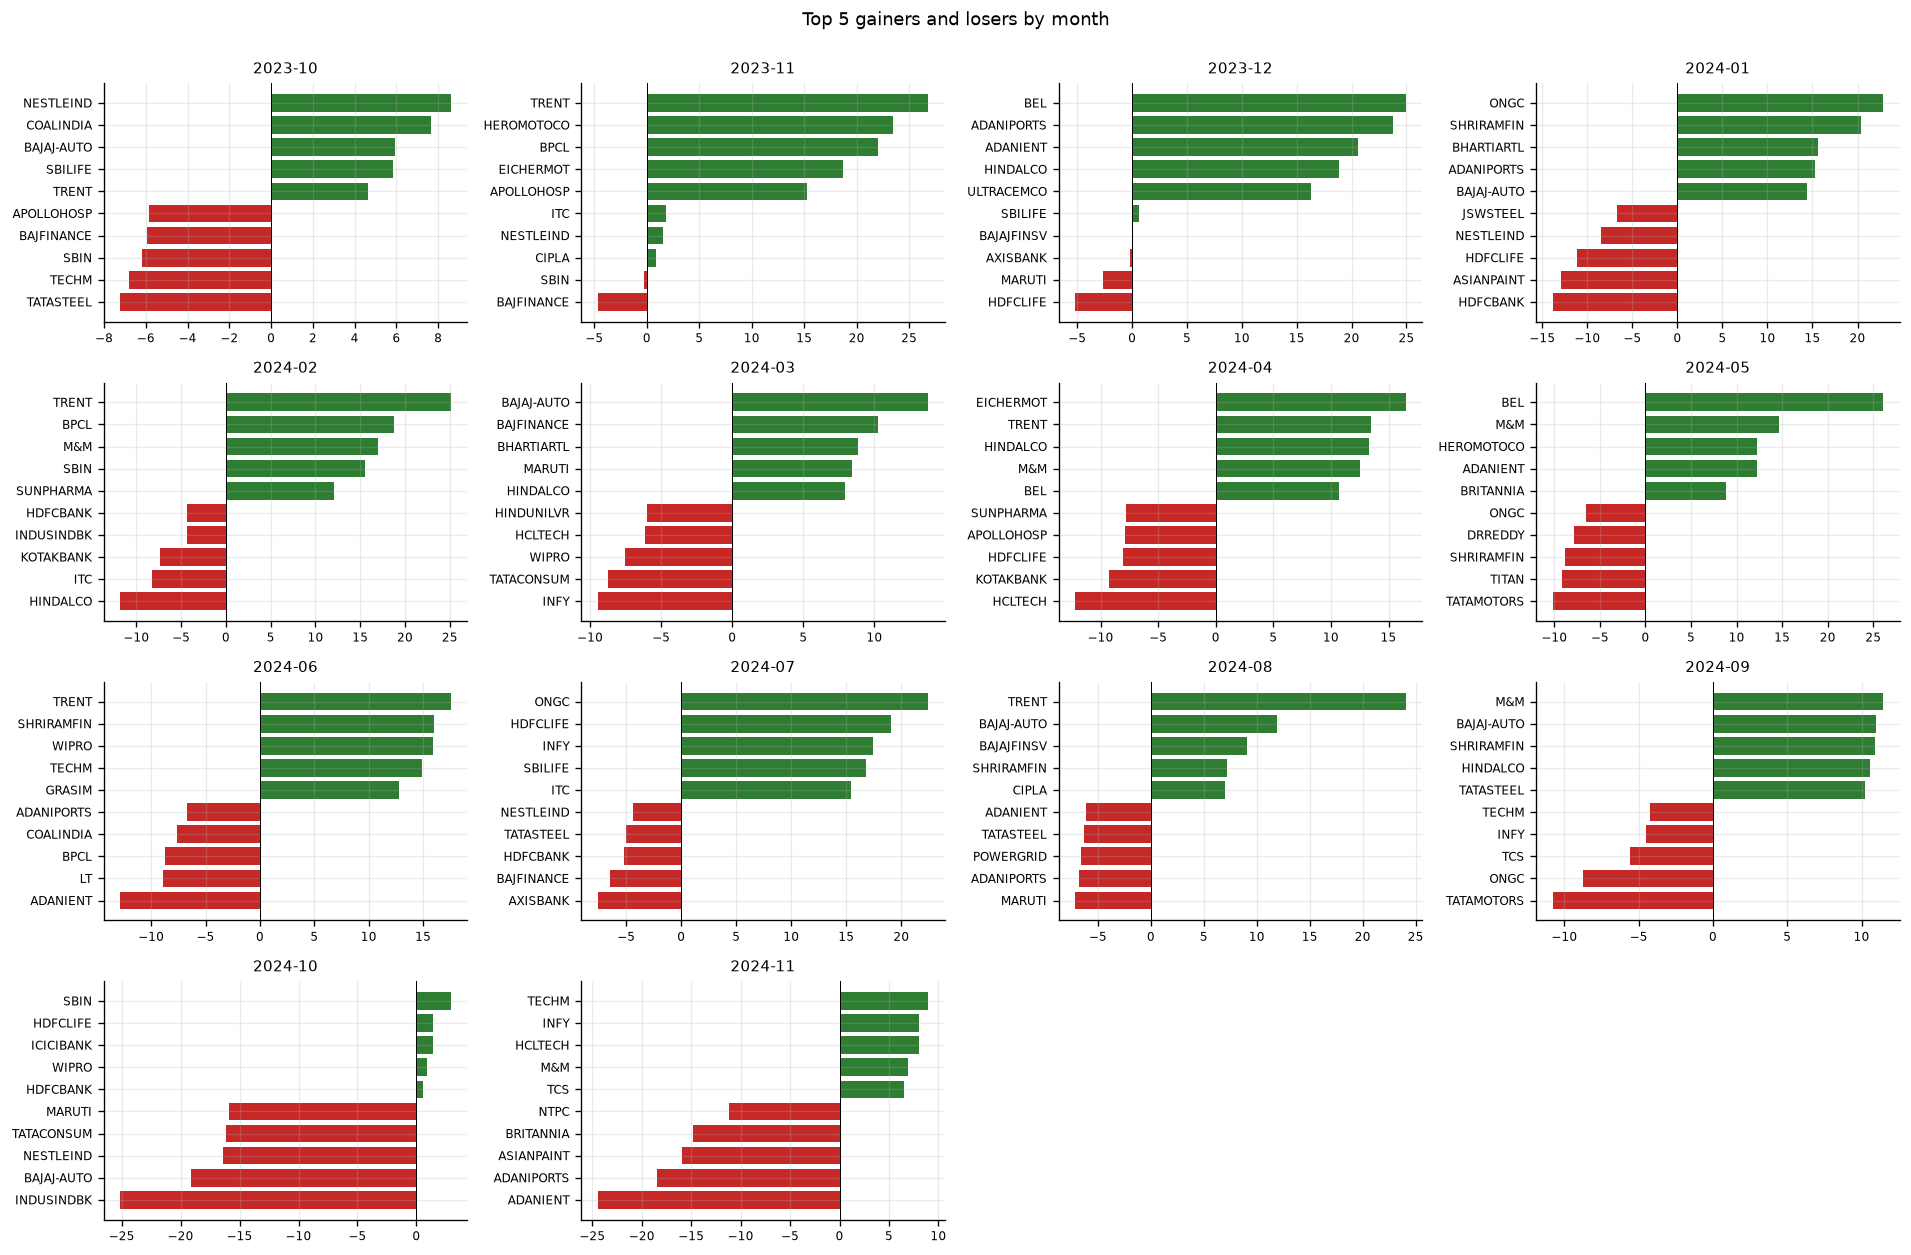

Layout of this report page (visuals, bound fields, positions):
{"tool":"powerbi","page":{"name":"Monthly Gainers & Losers","canvas":[1280,720],"ordinal":3},"visuals":[{"type":"slicer","fields":{"Values":["agg_monthly_returns.month"]},"box":[16,16,1248,100],"z":0},{"type":"clusteredBarChart","fields":{"Category":["agg_monthly_returns.symbol"],"Y":["Sum(agg_monthly_returns.monthly_return_pct)"]},"box":[16,132,612,514],"z":1000},{"type":"clusteredBarChart","fields":{"Category":["agg_monthly_returns.symbol"],"Y":["Sum(agg_monthly_returns.monthly_return_pct)"]},"box":[652,132,612,514],"z":2000}]}

Visuals, with their boxes on the page's 1280x720 design canvas (x1, y1, x2, y2). These are canvas units, not pixel positions in the 1911x1255 screenshot, which may show the page scaled, cropped or inside an application window:
slicer - agg_monthly_returns.month: 16, 16, 1264, 116
clusteredBarChart - agg_monthly_returns.symbol x Sum(agg_monthly_returns.monthly_return_pct): 16, 132, 628, 646
clusteredBarChart - agg_monthly_returns.symbol x Sum(agg_monthly_returns.monthly_return_pct): 652, 132, 1264, 646
